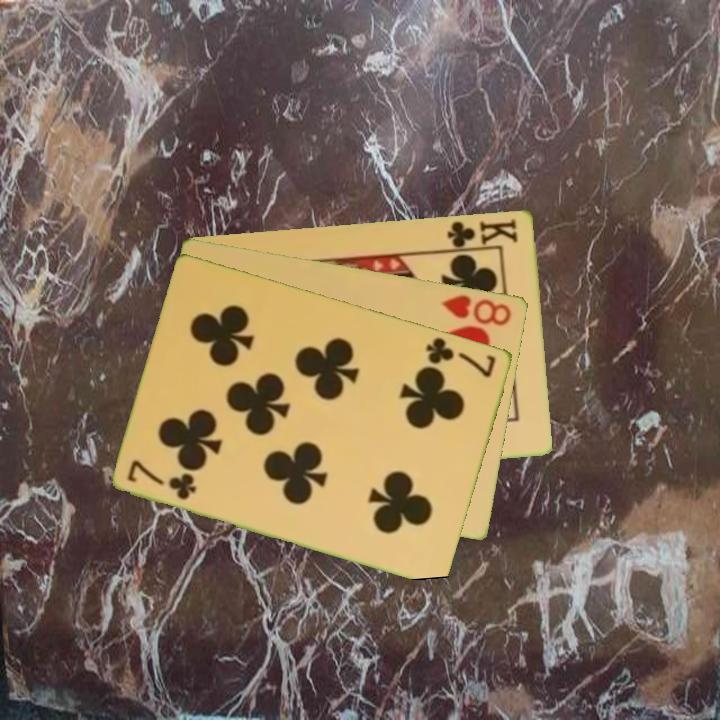7c: (423, 333, 499, 380), (124, 456, 200, 503)
8h: (439, 291, 515, 329)
Kc: (442, 214, 521, 253)
